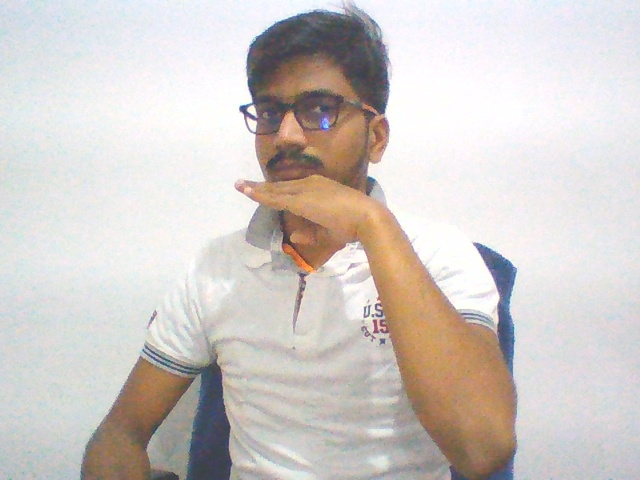elephant: (229, 167, 397, 251)
